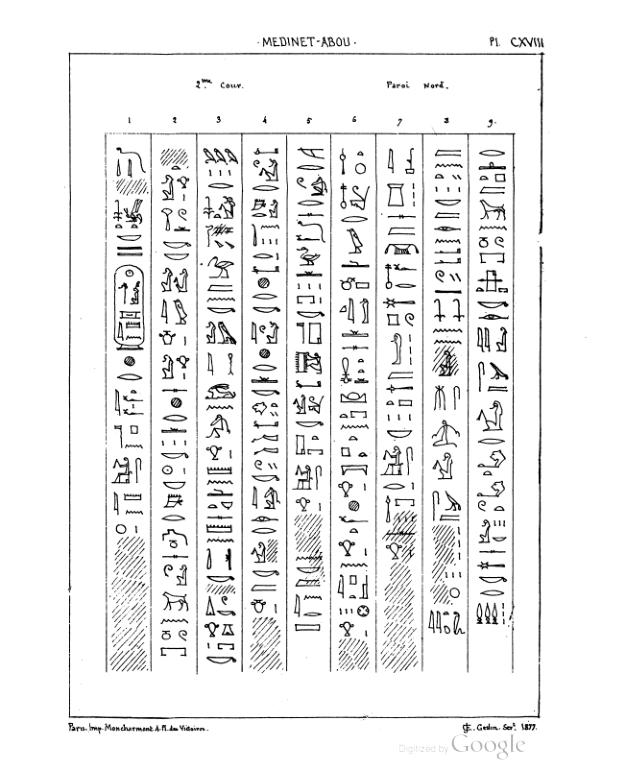circle: (110, 263, 150, 353)
